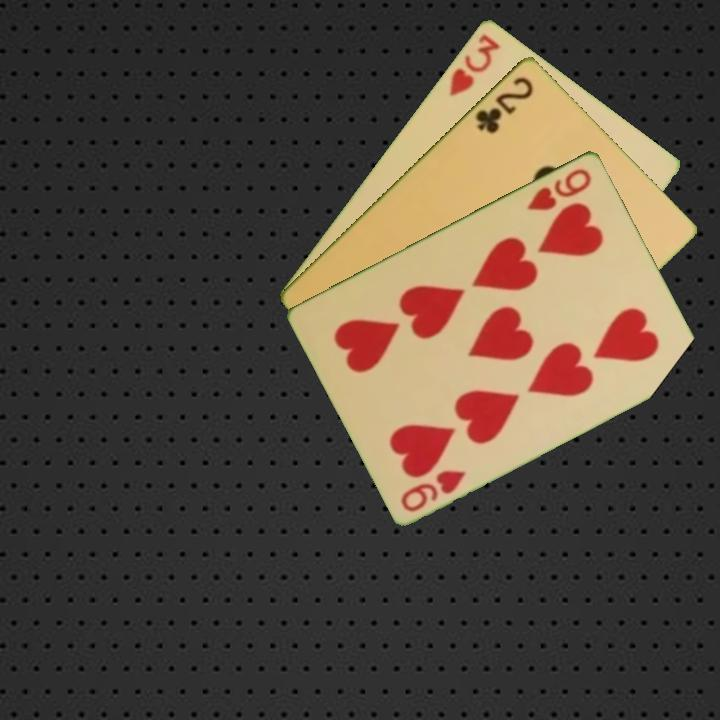2c: (472, 72, 536, 136)
3h: (445, 29, 503, 100)
9h: (523, 164, 595, 214), (397, 465, 469, 515)
